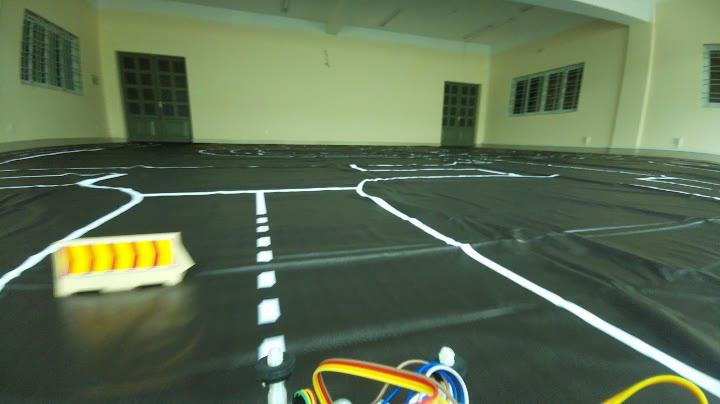roadblock: (46, 234, 186, 288)
